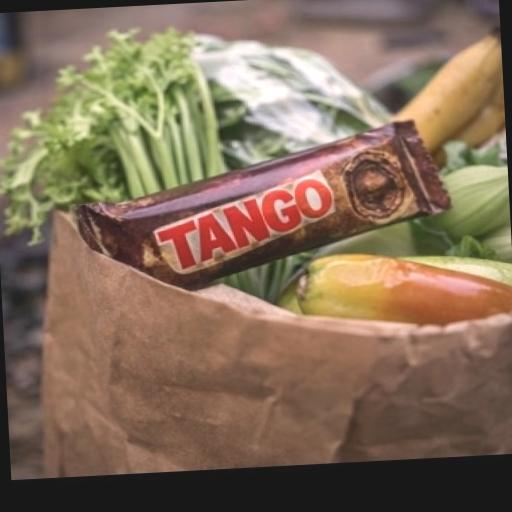tango: (60, 108, 507, 358)
